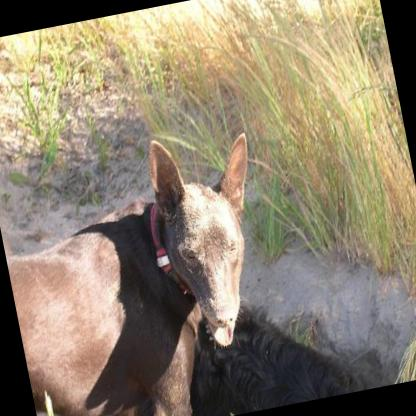kelpie: (0, 116, 301, 416)
